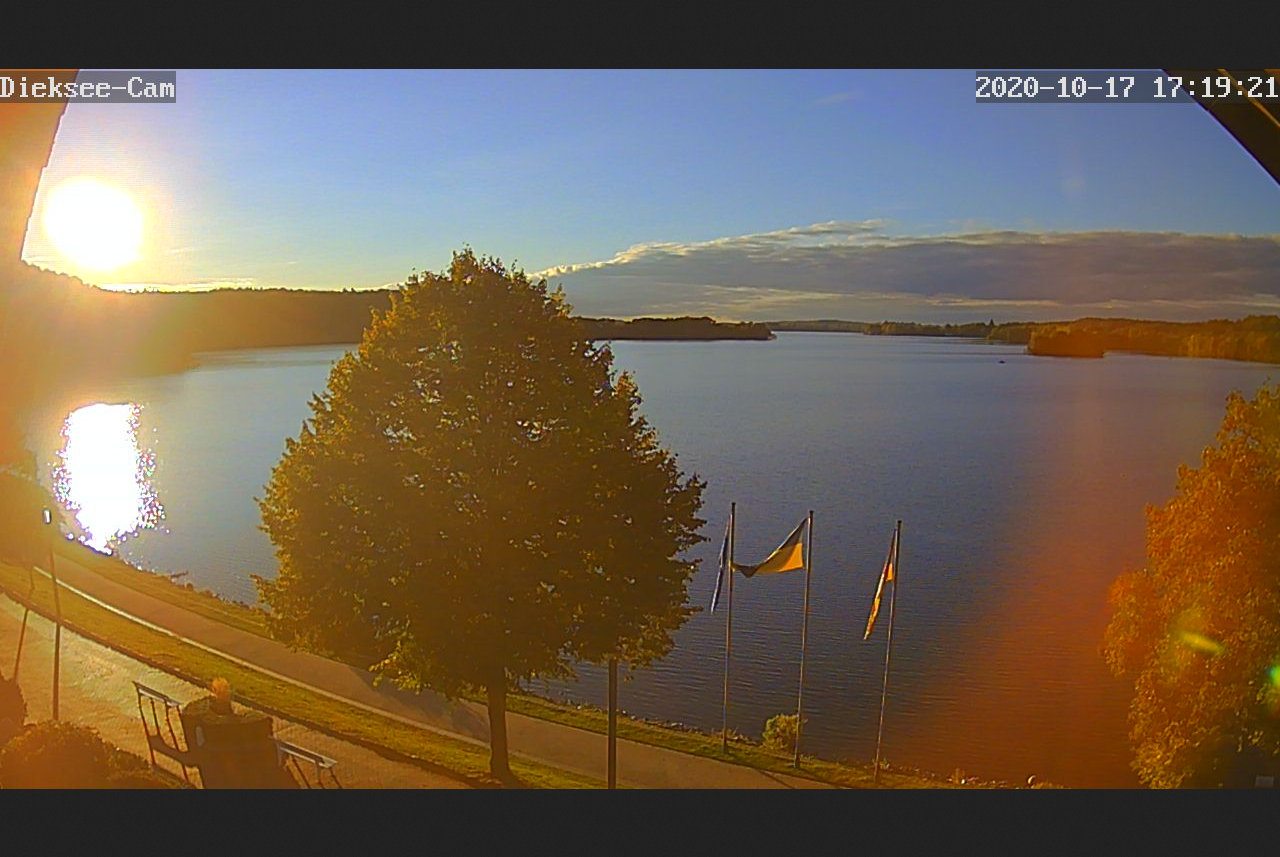maybe: (731, 517, 814, 579)
no: (860, 526, 895, 643), (708, 512, 733, 613)
